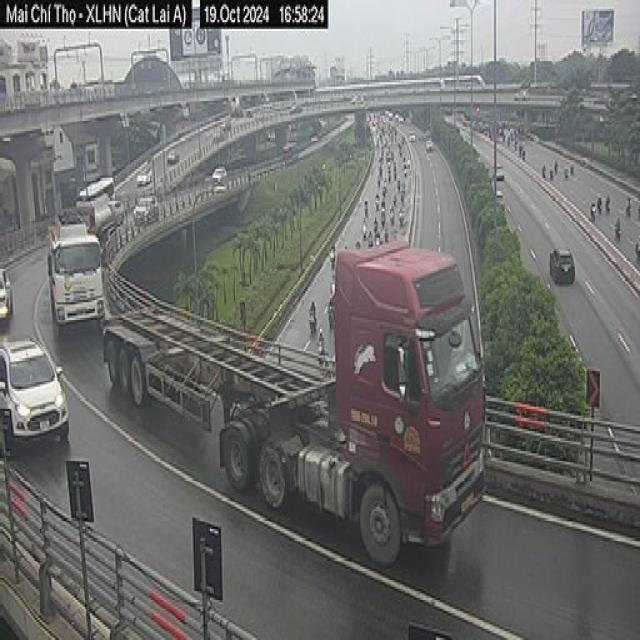car: (0, 336, 71, 458)
container-truck: (99, 233, 491, 564)
